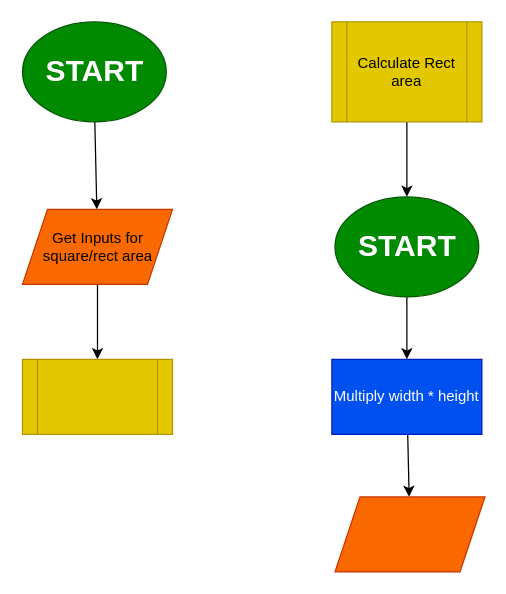
Image size: 506x594. Some labels were removed from this diagram. The centre of each missing label's shape, as x and y in pixels:
Call Rect calculate area: point 96,396
Return Area: point 409,534
